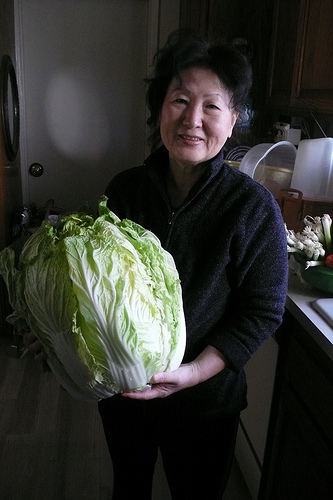cabbage: (20, 195, 184, 400)
